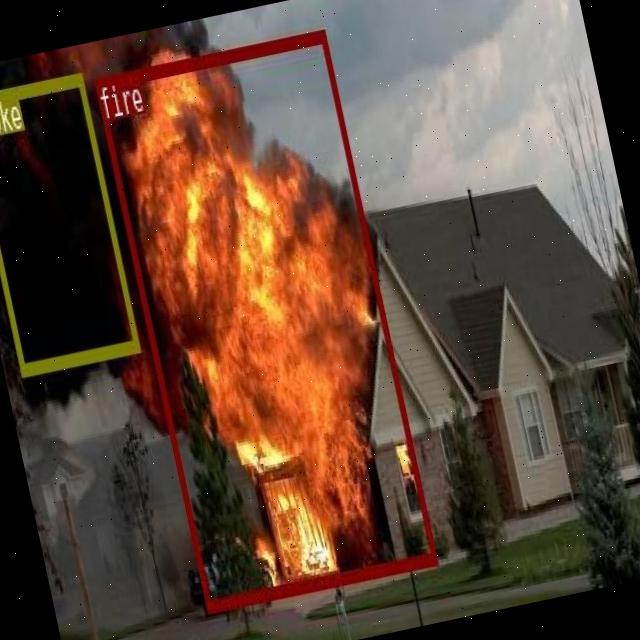fire: (92, 28, 438, 612)
smoke: (0, 70, 139, 374)
